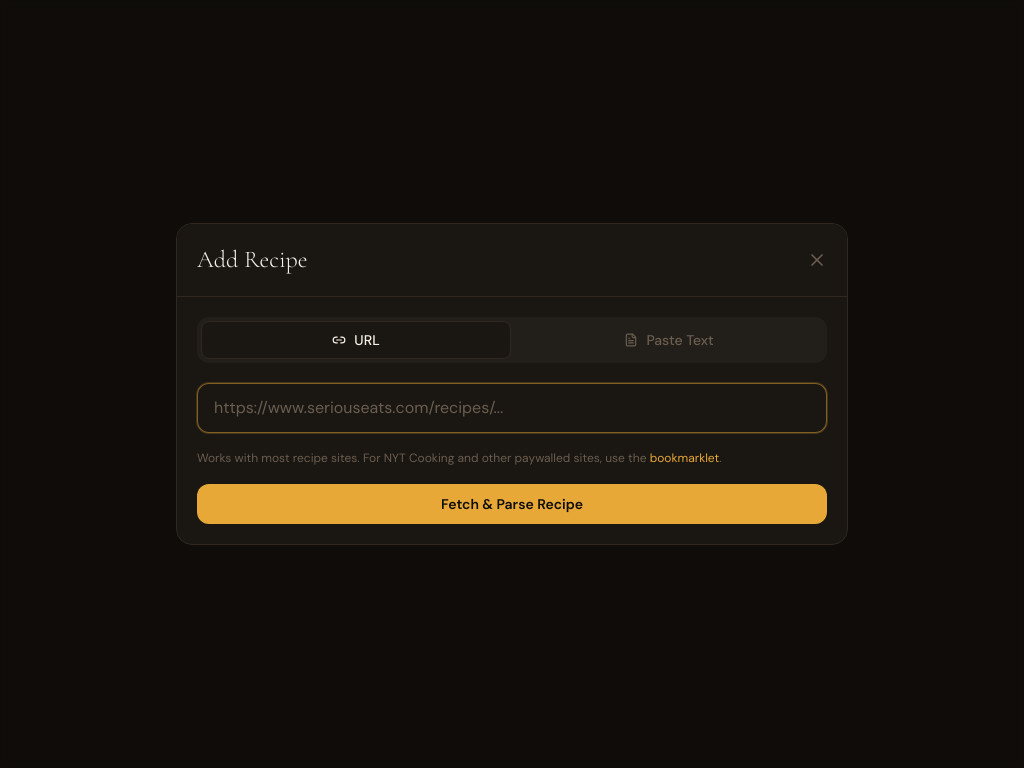
Test: AddRecipeModal category review › keeps missing or invalid AI categories unresolved instead of defaulting to Chicken
Type "https://recipes.example/test" into the field with placeholder "https://www.seriouseats.com/recipes/...".
click(512, 408); type("https://recipes.example/test")  # box [197, 383, 827, 433]
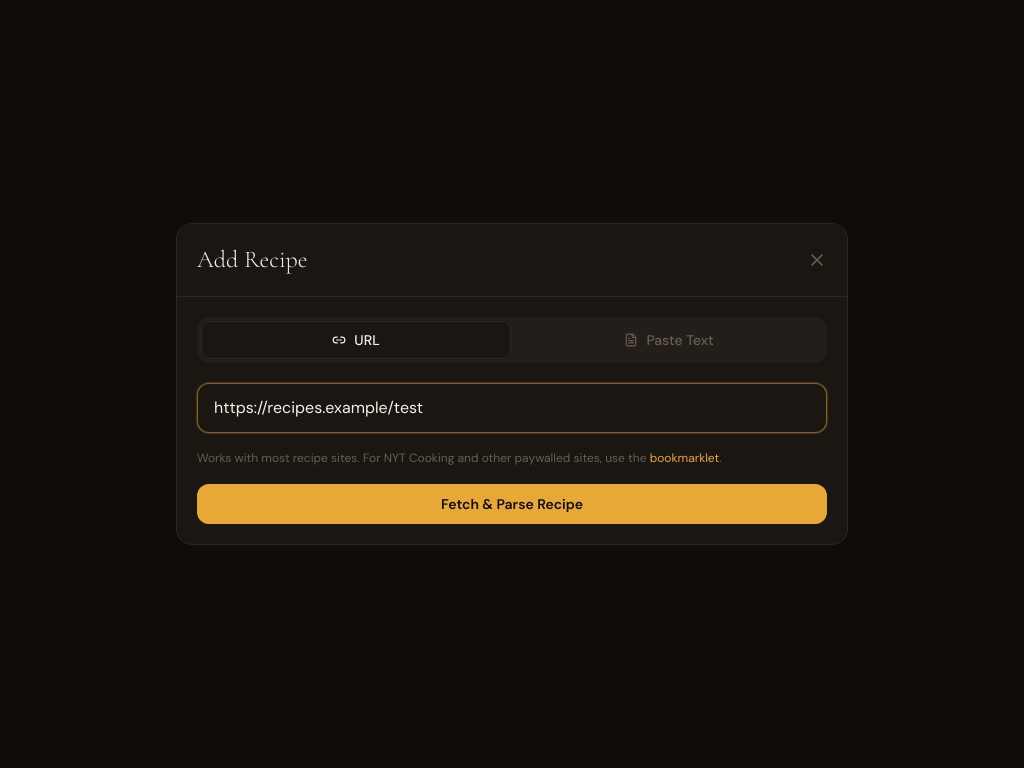
Click the button "Fetch & Parse Recipe".
click(512, 504)  # box [197, 484, 827, 524]
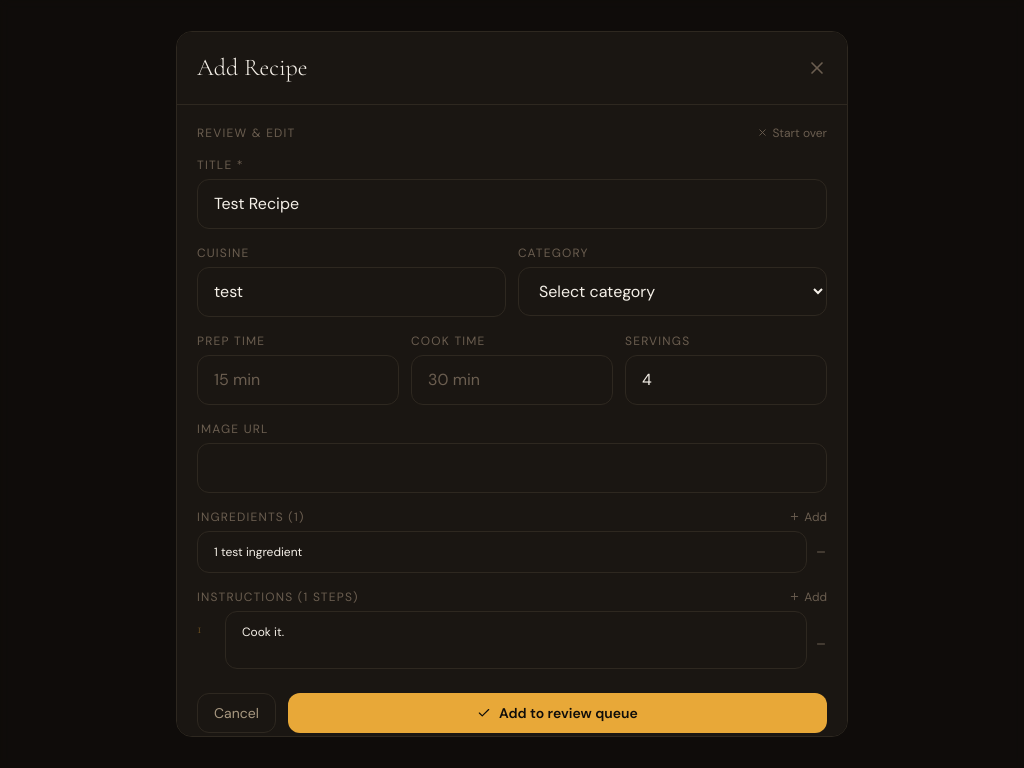
Check: the text "Review & Edit" is shown, box [197, 125, 296, 141]
Check: the dropdown shows "Select category", box [518, 267, 827, 316]
